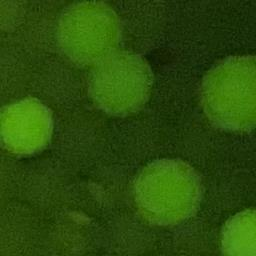negative: (41, 208, 108, 256), (105, 220, 172, 256), (0, 33, 40, 93), (0, 200, 43, 255), (0, 152, 22, 201), (0, 0, 29, 36)
positive: (130, 154, 208, 227), (55, 2, 127, 69), (198, 53, 256, 133), (88, 49, 154, 116), (0, 95, 57, 158), (218, 204, 256, 256)
